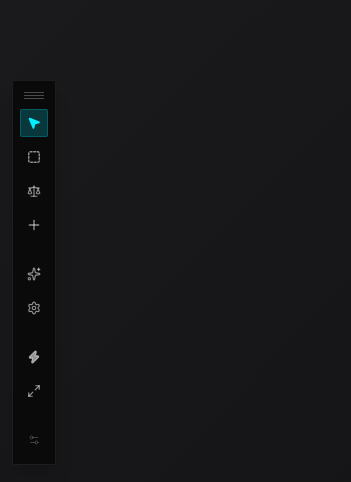
Test: CustomizePopover — button list › should toggle visibility when a visibility toggle button is clicked
Click the button titled "Customize Toolbar". click: (34, 440)
box: [20,426,48,454]
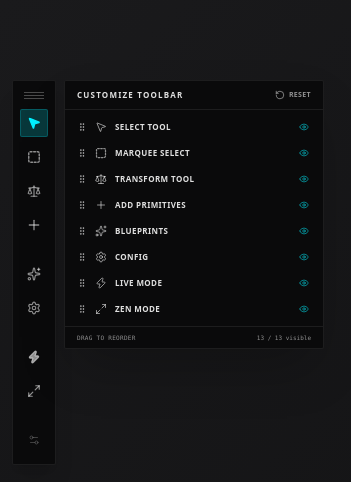
Now the number of icons with class "lucide-eye" is 8
Click the button titled "Hide button" next to "Select Tool". click: (304, 127)
box: [297,120,311,134]
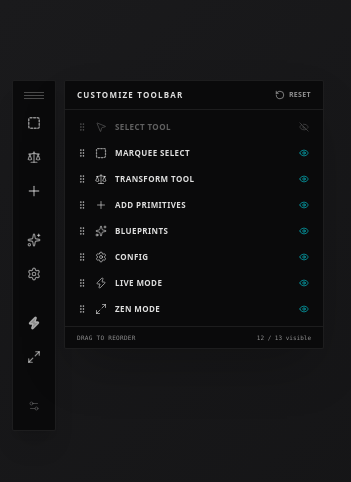
Now the number of icons with class "lucide-eye-off" is 1, box [299,122,309,132]
